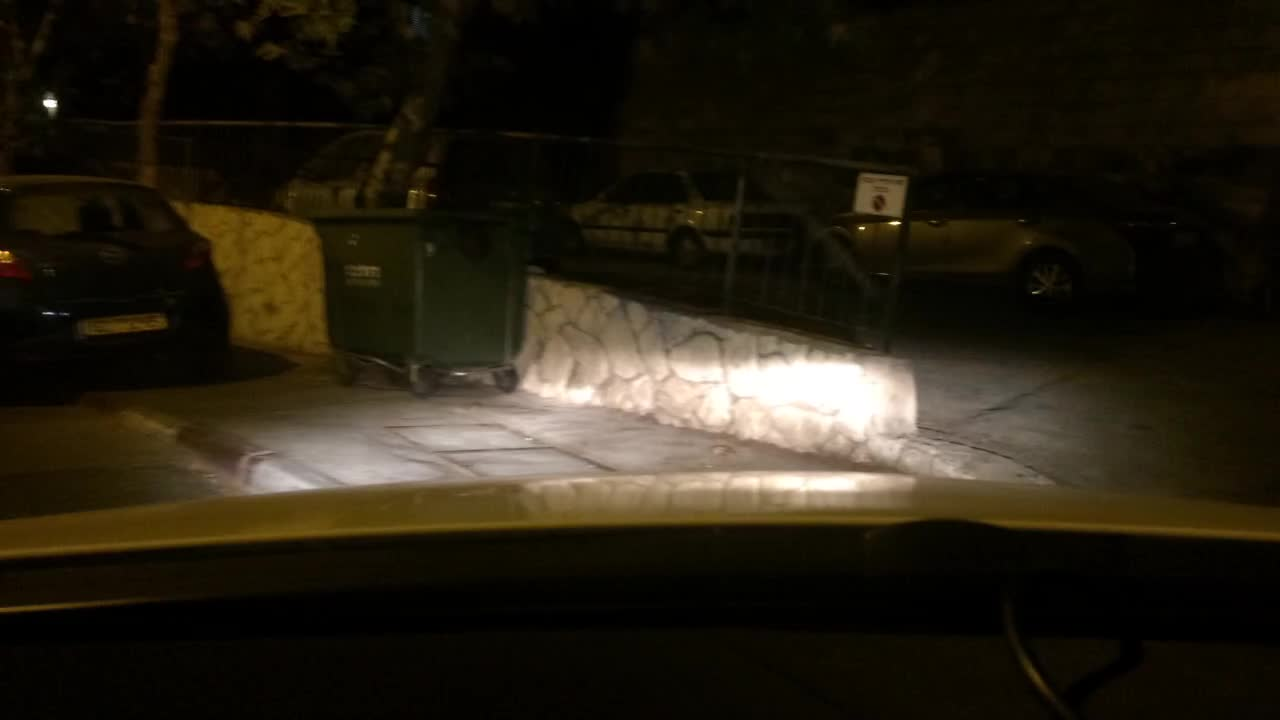car: (0, 164, 233, 392), (281, 119, 686, 216), (814, 190, 1155, 304), (536, 157, 828, 284), (1133, 197, 1226, 306)
traffic sign: (853, 170, 909, 220)
